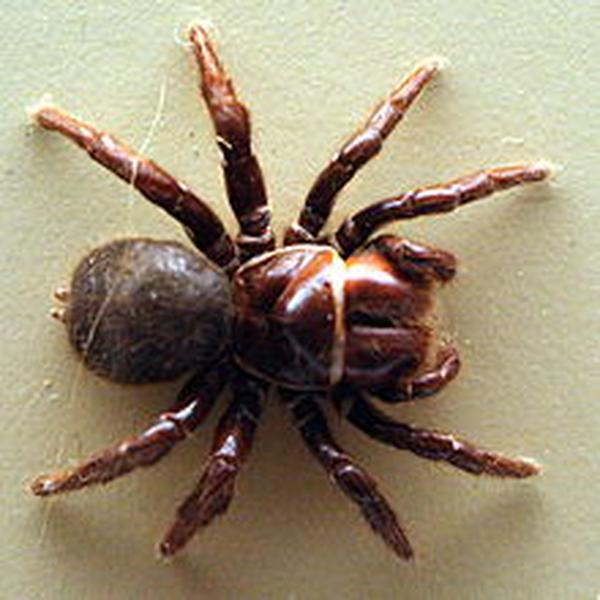Red Headed Mouse Spider: (40, 28, 541, 564)
